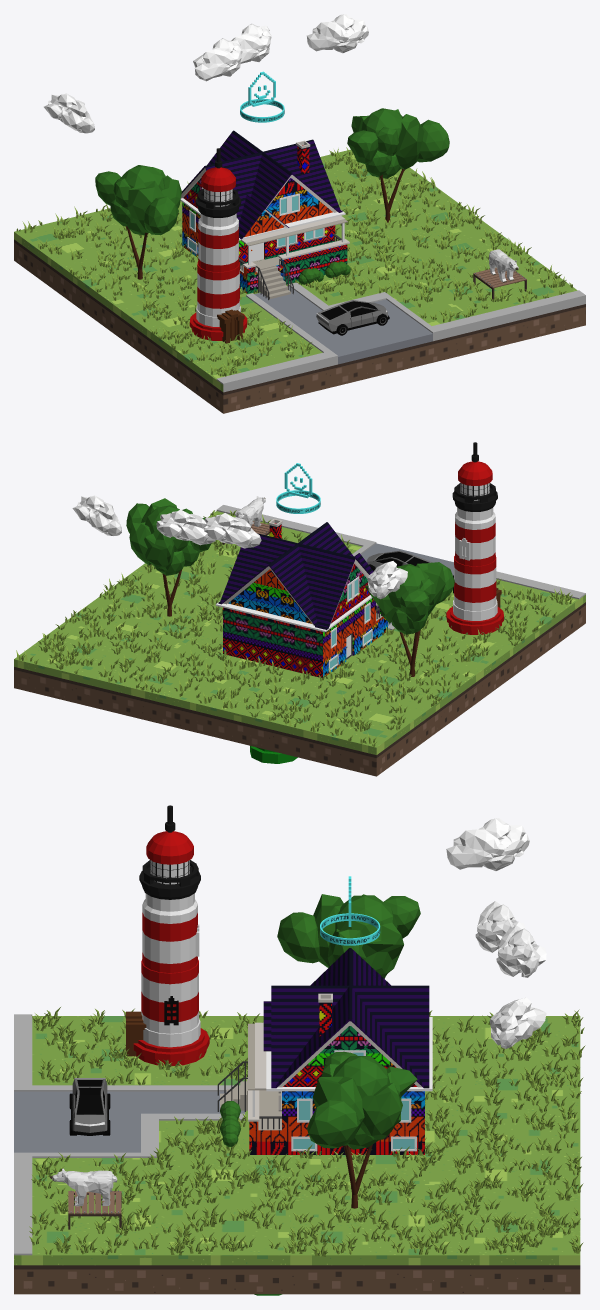
3 views of the same model, one above another, from view 1: azimuth 30°, elevation 25°; view 2: azimuth 150°, elevation 25°; view 3: azimuth 270°, elevation 25° (orthographic). The views are drawn at different scales.
Visible parts, largest first — view 1: Cube.006, Circle.012_Grass_0.192, Cube.966, OBJRANDOM_LIGHTHOUSE, Cube.007, tree, tree.001, VEHICLES_CYBERTRUCK, TYPE_PREMIUM, ANIMAL_OSO_POLAR, Cube.009; view 2: Cube.006, Cube.966, Circle.012_Grass_0.192, OBJRANDOM_LIGHTHOUSE, Cube.007, tree.001, tree, TYPE_PREMIUM, VEHICLES_CYBERTRUCK, ANIMAL_OSO_POLAR, UNDERGROUND_PIPES; view 3: Cube.006, Circle.012_Grass_0.192, Cube.966, OBJRANDOM_LIGHTHOUSE, tree, Cube.007, tree.001, VEHICLES_CYBERTRUCK, ANIMAL_OSO_POLAR, Cube.009, TYPE_PREMIUM.
Part boxes in pixels (<box>): Cube.006: <box>14,149,585,413</box>; Circle.012_Grass_0.192: <box>16,147,573,376</box>; Cube.966: <box>180,130,349,300</box>; OBJRANDOM_LIGHTHOUSE: <box>189,148,247,343</box>; Cube.007: <box>44,14,368,133</box>; tree: <box>347,108,449,222</box>; tree.001: <box>95,165,181,279</box>; VEHICLES_CYBERTRUCK: <box>316,300,389,335</box>; TYPE_PREMIUM: <box>240,71,284,122</box>; ANIMAL_OSO_POLAR: <box>489,249,518,282</box>; Cube.009: <box>473,267,526,299</box>; Cube.006: <box>14,505,585,776</box>; Cube.966: <box>215,519,387,678</box>; Circle.012_Grass_0.192: <box>16,510,572,746</box>; OBJRANDOM_LIGHTHOUSE: <box>446,442,503,634</box>; Cube.007: <box>72,495,407,599</box>; tree.001: <box>365,562,454,676</box>; tree: <box>126,498,211,616</box>; TYPE_PREMIUM: <box>276,463,320,513</box>; VEHICLES_CYBERTRUCK: <box>366,550,432,571</box>; ANIMAL_OSO_POLAR: <box>236,496,265,526</box>; UNDERGROUND_PIPES: <box>250,746,297,763</box>; Cube.006: <box>14,1014,580,1294</box>; Circle.012_Grass_0.192: <box>29,1007,585,1256</box>; Cube.966: <box>217,948,432,1154</box>; OBJRANDOM_LIGHTHOUSE: <box>126,805,209,1066</box>; tree: <box>307,1051,417,1208</box>; Cube.007: <box>446,818,546,1048</box>; tree.001: <box>277,894,420,978</box>; VEHICLES_CYBERTRUCK: <box>69,1078,110,1135</box>; ANIMAL_OSO_POLAR: <box>50,1168,117,1206</box>; Cube.009: <box>68,1190,121,1229</box>; TYPE_PREMIUM: <box>320,876,380,945</box>.
Bounding box in the file's own units: 4071 × 2884 × 4040.
41 materials, 8 textured.
